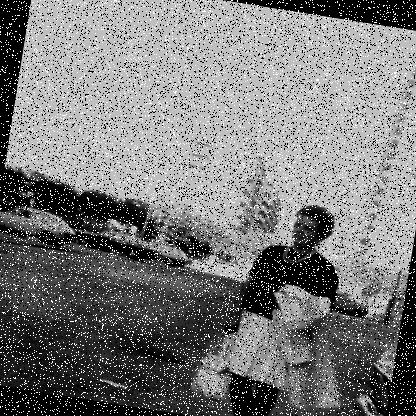Car: (339, 336, 398, 415), (0, 199, 83, 250), (70, 225, 160, 263), (142, 242, 188, 270), (332, 289, 368, 318), (172, 248, 194, 264)
